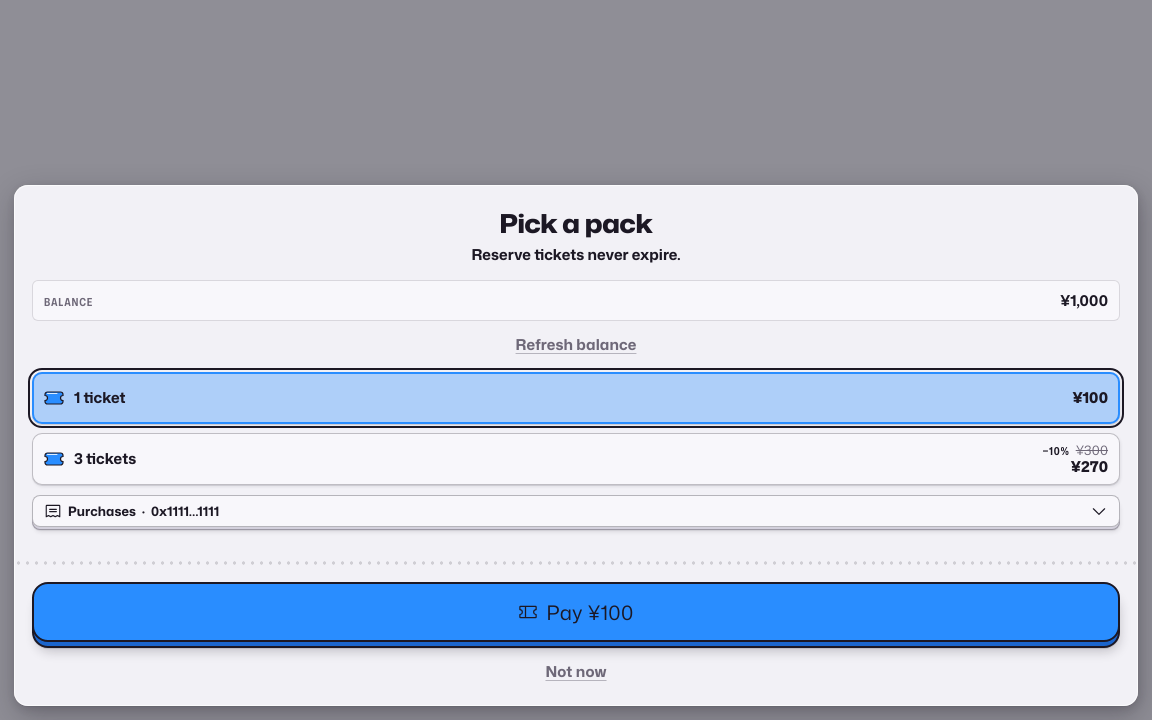
ReserveTicketCheckout › says why when Sui ran the payment and it failed, with Sui's words as fine print
The image size is (1152, 720).
Click the button "Pay ¥100" at (576, 615), box [32,582,1120,648]
Wait 500 ms
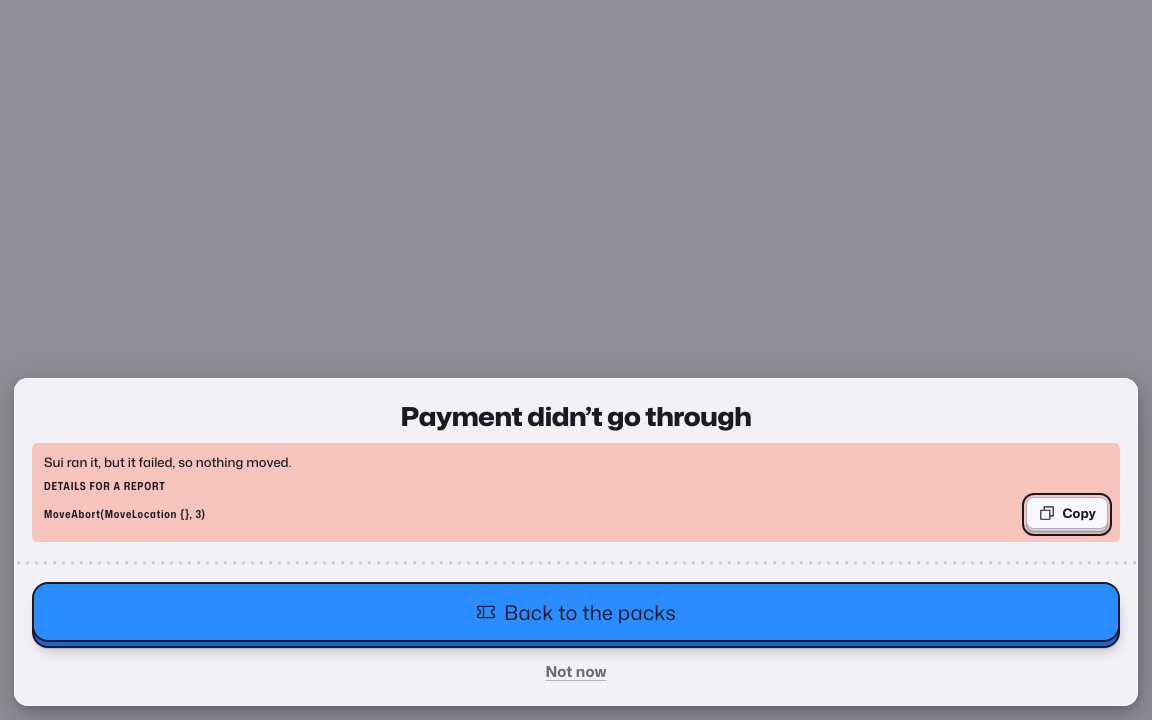
Result: the heading "Payment didn’t go through" is shown at [401,398,751,434]
Result: the message "Sui ran it, but it failed, so nothing moved." is shown at [44,452,291,470]
Result: the text with class "copyable-fine-print__text" reads "MoveAbort(MoveLocation {}, 3)" at [44,506,206,522]
